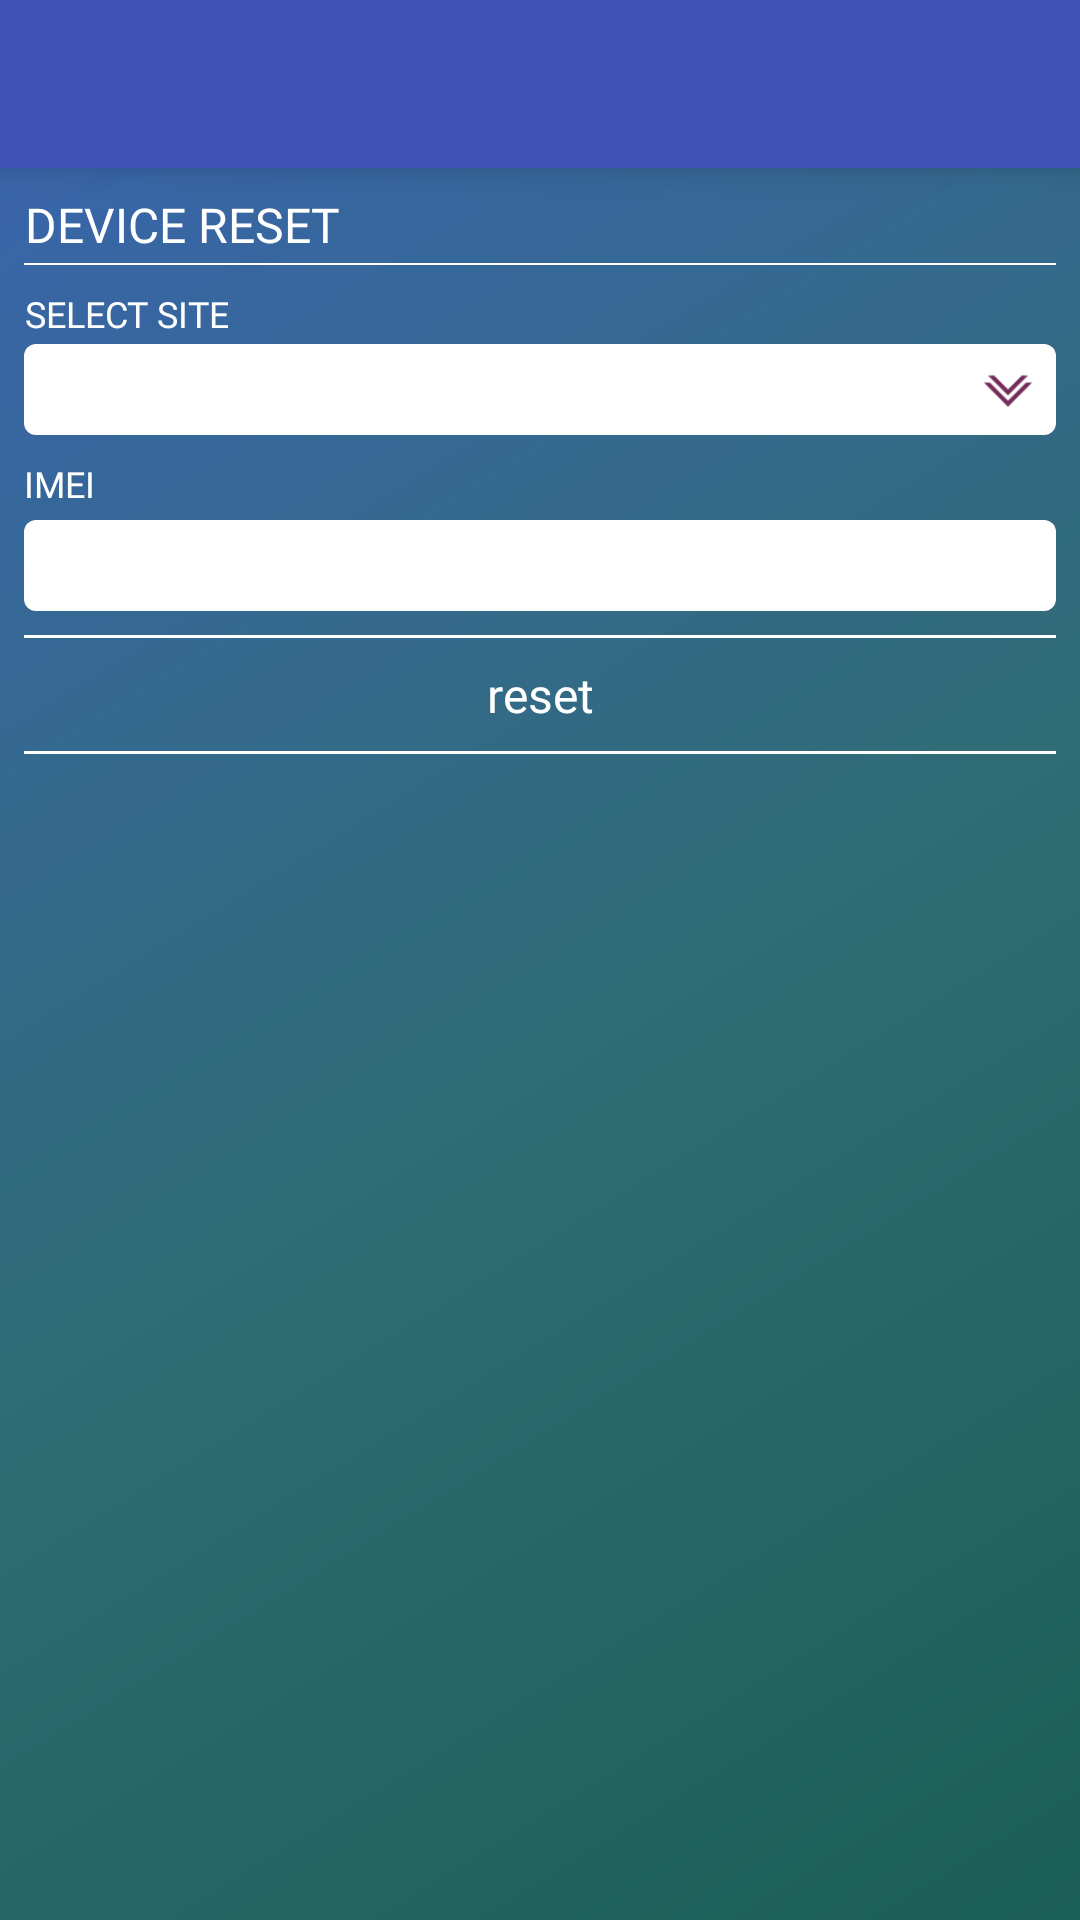

Screen size 1080*1920. Icon name, then its center in pixels as (x,y):
down arrow: (1008,391)
